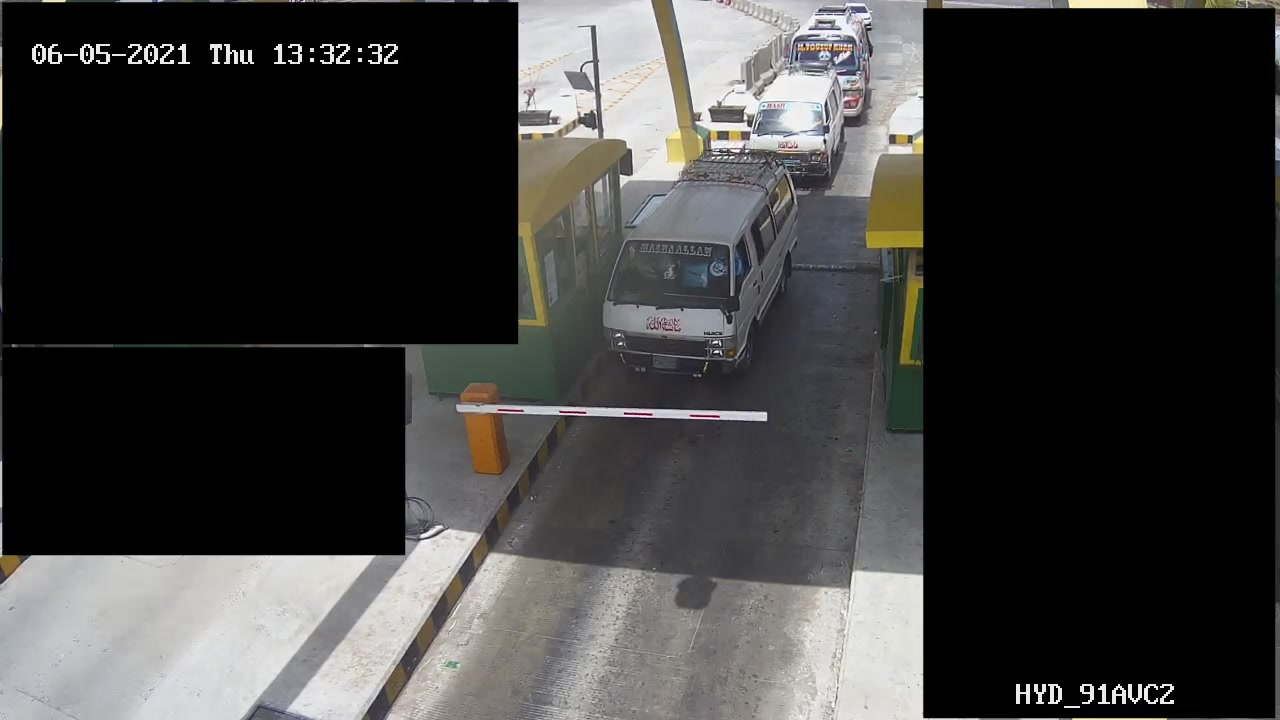F2: (602, 152, 796, 377)
